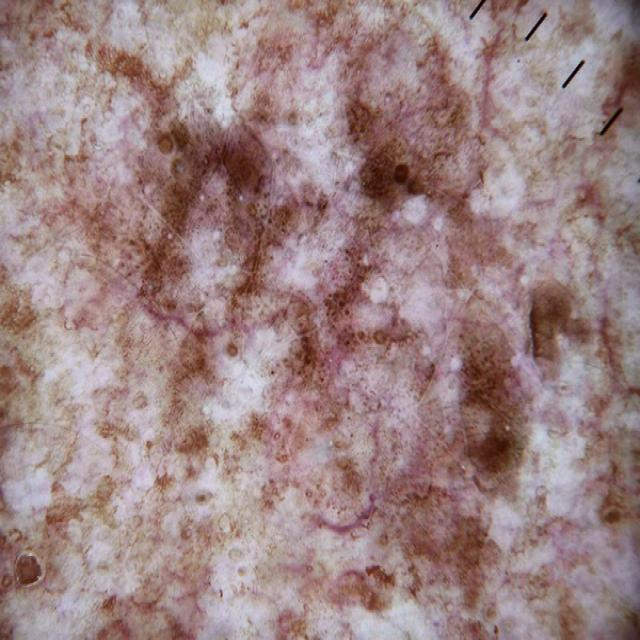Benign-Keratosis-like-Lesions-BKL-: (36, 21, 595, 594)
